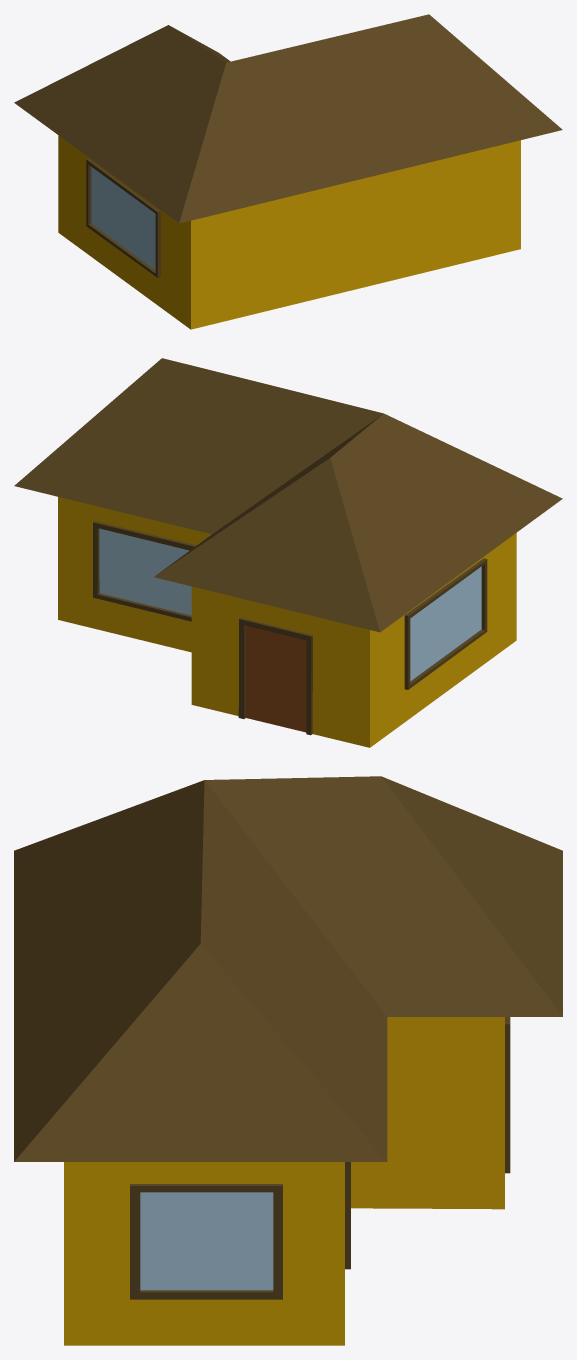
Rendered from yellow corner building.fbx.
3 views of the same model, one above another, from view 1: azimuth 30°, elevation 25°; view 2: azimuth 150°, elevation 25°; view 3: azimuth 270°, elevation 25° (orthographic). The views are drawn at different scales.
Visible parts, largest first — view 1: Cube.001; view 2: Cube.001; view 3: Cube.001.
Part boxes in pixels (left/top/right/bottom): Cube.001: left=14, top=14, right=562, bottom=329; Cube.001: left=14, top=358, right=562, bottom=747; Cube.001: left=14, top=776, right=562, bottom=1345.
Size of the model in its own units: 6136 by 3323 by 4573.
